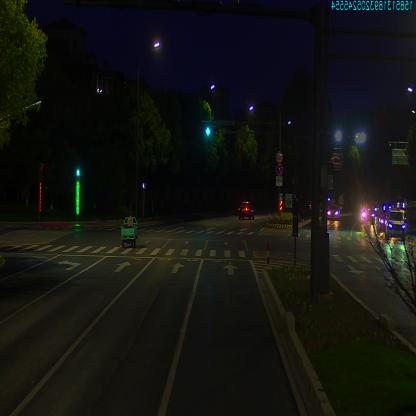traffic-light: (206, 123, 212, 135)
